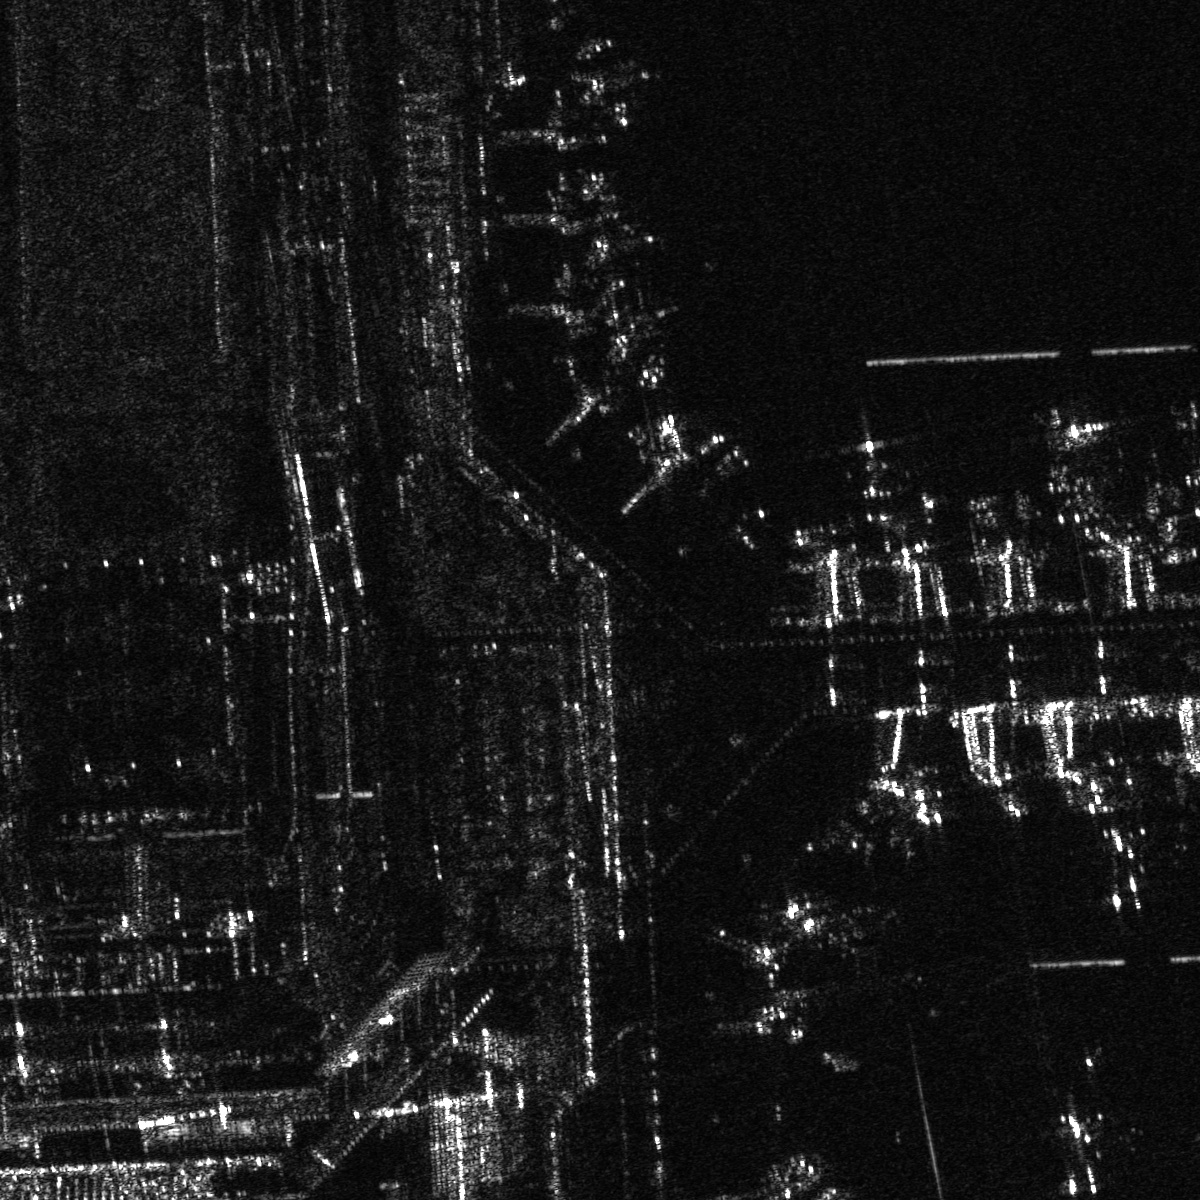A220: (851, 425, 920, 504)
A320/321: (1033, 410, 1088, 500), (1169, 396, 1199, 486)
Boeing787: (1077, 821, 1162, 916)
other: (1021, 1092, 1131, 1197)
